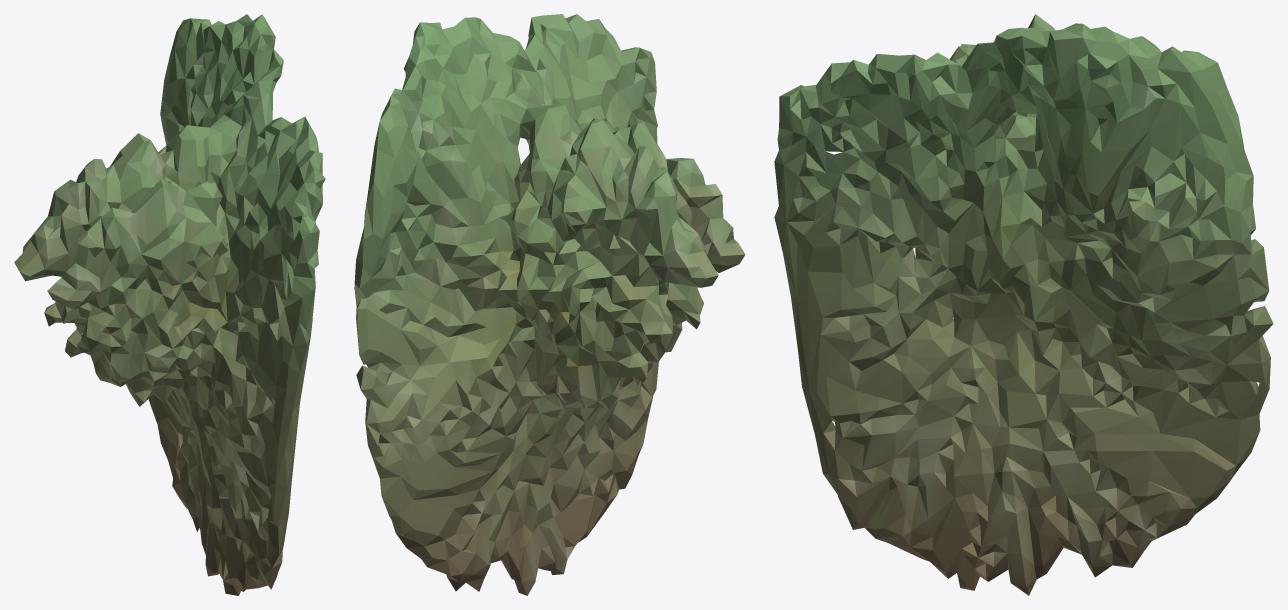
Rendered from staghorn.glb.
3 views of the same model, side by side, from view 1: azimuth 30°, elevation 25°; view 2: azimuth 150°, elevation 25°; view 3: azimuth 270°, elevation 25° (orthographic). The views are drawn at different scales.
Parts seen in each view (by area): view 1: world; view 2: world; view 3: world.
Part boxes in pixels (x1,y1,x2,y2): world: (14, 14, 325, 595); world: (354, 14, 745, 595); world: (774, 14, 1273, 595).
Size of the model in its own units: 0.7709 by 1.45 by 1.08.
